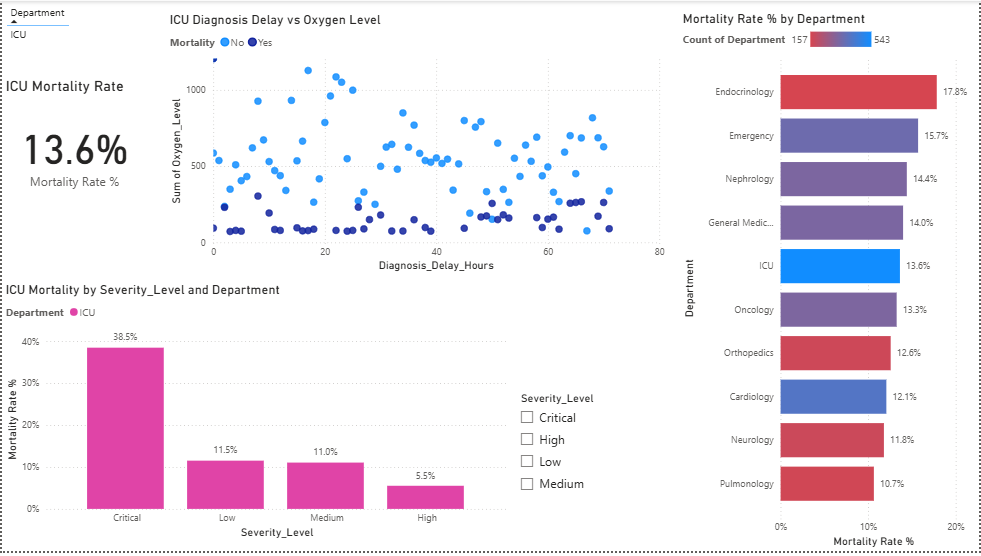

This screenshot's page, from the dashboard's own definition file:
{"tool":"powerbi","page":{"name":"ICU Mortality","canvas":[1280,720],"ordinal":1},"visuals":[{"type":"tableEx","fields":{"Values":["Healthcare_Master.Department"]},"box":[0,0,112.9,107.1],"z":0},{"type":"card","title":"ICU Mortality Rate","fields":{"Values":["Healthcare_Master.Mortality Rate %"]},"box":[0,99.9,189.8,174.1],"z":1000},{"type":"clusteredBarChart","fields":{"Category":["Healthcare_Master.Department"],"Y":["Healthcare_Master.Mortality Rate %"]},"box":[885.7,12.9,394.3,707.1],"z":2000},{"type":"clusteredColumnChart","title":"ICU Mortality by Severity_Level and Department","fields":{"Category":["Healthcare_Master.Severity_Level"],"Y":["Healthcare_Master.Mortality Rate %"],"Series":["Healthcare_Master.Department"]},"box":[0,367.9,666.3,340.4],"z":3000},{"type":"scatterChart","title":"ICU Diagnosis Delay vs Oxygen Level","fields":{"Y":["Sum(Healthcare_Master.Oxygen_Level)"],"X":["Healthcare_Master.Diagnosis_Delay_Hours"],"Series":["Healthcare_Master.Mortality"]},"box":[214.5,14.3,657.9,345],"z":4000},{"type":"slicer","fields":{"Values":["Healthcare_Master.Severity_Level"]},"box":[666.4,506.6,219.8,202.6],"z":5000}]}

Visuals, with their boxes in screenshot pixels (x1, y1, x2, y2), scaled from the page's 1280x720 canvas onto the 981x556 screenshot:
tableEx - Healthcare_Master.Department: <bbox>0, 0, 87, 83</bbox>
"ICU Mortality Rate" card: <bbox>0, 77, 145, 212</bbox>
clusteredBarChart - Healthcare_Master.Department x Healthcare_Master.Mortality Rate %: <bbox>679, 10, 980, 555</bbox>
"ICU Mortality by Severity_Level and Department" clusteredColumnChart: <bbox>0, 284, 511, 547</bbox>
"ICU Diagnosis Delay vs Oxygen Level" scatterChart: <bbox>164, 11, 669, 277</bbox>
slicer - Healthcare_Master.Severity_Level: <bbox>511, 391, 679, 548</bbox>
